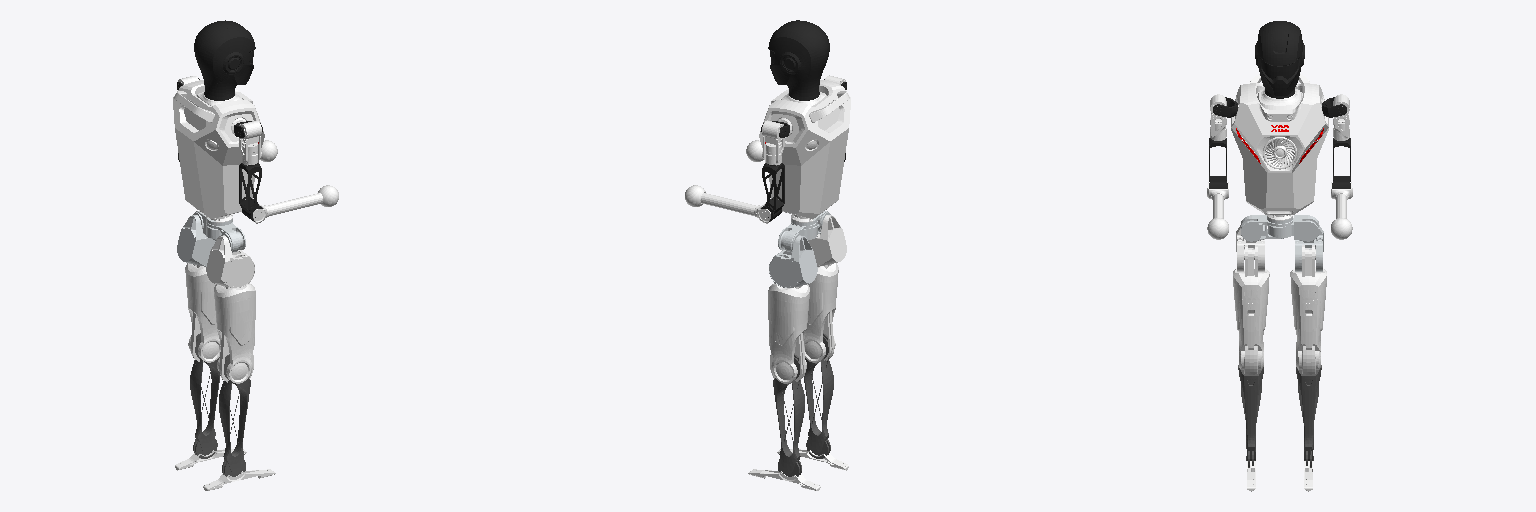
robot.urdf — X02Lite:
<?xml version="1.0" encoding="utf-8"?>
<!-- This URDF was automatically created by SolidWorks to URDF Exporter! Originally created by [author] ([email redacted]) 
     Commit Version: 1.6.0-4-g7f85cfe  Build Version: 1.6.7995.38578
     For more information, please see http://wiki.ros.org/sw_urdf_exporter -->
<robot name="X02Lite">
  <mujoco>
    <compiler meshdir="meshes" discardvisual="false"/>
  </mujoco>
  <!-- [CAUTION] uncomment when convert to mujoco -->
  <link name="world"></link>
  <joint name="pelvis" type="floating">
    <parent link="world"/>
    <child link="pelvis"/>
  </joint>

  <link name="pelvis">
    <inertial>
      <origin xyz="-0.0000717 0.0001443 -0.0195866" rpy="0 0 0" />
      <mass value="0.5786" />
      <inertia ixx="0.0004533504" ixy="-0.0000000581" ixz="-0.0000006777" iyy="0.0004080524" iyz="0.0000027471" izz="0.0005122071" />
    </inertial>
    <visual>
      <origin xyz="0 0 0" rpy="0 0 0" />
      <geometry>
        <mesh filename="meshes/pelvis.STL" />
      </geometry>
      <material name="">
        <color rgba="1 1 1 1" />
      </material>
    </visual>
    <!-- <collision> -->
    <origin xyz="0 0 0" rpy="0 0 0" />
    <geometry>
      <mesh filename="meshes/pelvis.STL" />
    </geometry>
    <!-- </collision> -->
  </link>
  <link name="L_hip_yaw_Link">
    <inertial>
      <origin xyz="0.000942 0.026834 -0.024386" rpy="0 0 0" />
      <mass value="1.758" />
      <inertia ixx="0.004988888" ixy="0.000039059" ixz="-0.000005421" iyy="0.002479734" iyz="-0.001035324" izz="0.003849267" />
    </inertial>
    <visual>
      <origin xyz="0 0 0" rpy="0 0 0" />
      <geometry>
        <mesh filename="meshes/L_hip_yaw_Link.STL" />
      </geometry>
      <material name="">
        <color rgba="0.898039215686275 0.917647058823529 0.929411764705882 1" />
      </material>
    </visual>
    <!-- <collision> -->
    <origin xyz="0 0 0" rpy="0 0 0" />
    <geometry>
      <mesh filename="meshes/L_hip_yaw_Link.STL" />
    </geometry>
    <!-- </collision> -->
  </link>
  <joint name="L_hip_yaw" type="revolute">
    <origin xyz="0 0 -0.06" rpy="0 0 0" />
    <parent link="pelvis" />
    <child link="L_hip_yaw_Link" />
    <axis xyz="0 0 1" />
    <limit lower="-0.7853981633974483" upper="0.7853981633974483" effort="50" velocity="10.471975511965978"/>
  </joint>
  <link name="L_hip_roll_Link">
    <inertial>
      <origin xyz="0.066798 -0.001559 0.021277" rpy="0 0 0" />
      <mass value="1.562" />
      <inertia ixx="0.002995411" ixy="-0.000034162" ixz="0.000102364" iyy="0.004418205" iyz="-0.000037524" izz="0.004164746" />
    </inertial>
    <visual>
      <origin xyz="0 0 0" rpy="0 0 0" />
      <geometry>
        <mesh filename="meshes/L_hip_roll_Link.STL" />
      </geometry>
      <material name="">
        <color rgba="0.898039215686275 0.917647058823529 0.929411764705882 1" />
      </material>
    </visual>
    <!-- <collision> -->
    <origin xyz="0 0 0" rpy="0 0 0" />
    <geometry>
      <mesh filename="meshes/L_hip_roll_Link.STL" />
    </geometry>
    <!-- </collision> -->
  </link>
  <joint name="L_hip_roll" type="revolute">
    <origin xyz="0 0.09 -0.0474" rpy="3.14159265358979 1.5707963267949 0" />
    <parent link="L_hip_yaw_Link" />
    <child link="L_hip_roll_Link" />
    <axis xyz="0 0 -1" />
    <limit lower="-0.2617993877991494" upper="0.7853981633974483" effort="50" velocity="10.471975511965978"/>
  </joint>
  <link name="L_hip_pitch_Link">
    <inertial>
      <origin xyz="0.082779 -0.000893 -0.001942" rpy="0 0 0" />
      <mass value="1.332" />
      <inertia ixx="0.000936533" ixy="-0.000067319" ixz="0.000256852" iyy="0.017165588" iyz="-0.000002308" izz="0.017023851" />
    </inertial>
    <visual>
      <origin xyz="0 0 0" rpy="0 0 0" />
      <geometry>
        <mesh filename="meshes/L_hip_pitch_Link.STL" />
      </geometry>
      <material name="">
        <color rgba="1 1 1 1" />
      </material>
    </visual>
    <!-- <collision> -->
    <origin xyz="0 0 0" rpy="0 0 0" />
    <geometry>
      <mesh filename="meshes/L_hip_pitch_Link.STL" />
    </geometry>
    <!-- </collision> -->
  </link>
  <joint name="L_hip_pitch" type="revolute">
    <origin xyz="0.092 -0.001 -2.97932823952292E-05" rpy="-1.5707963267949 0 0" />
    <parent link="L_hip_roll_Link" />
    <child link="L_hip_pitch_Link" />
    <axis xyz="0 0 1" />
    <limit lower="-0.5235987755982988" upper="2.007128639793479" effort="72" velocity="9.16297857297023"/>
  </joint>
  <link name="L_knee_Link">
    <inertial>
      <origin xyz="0.126574 0.002525 -0.000118" rpy="0 0 0" />
      <mass value="0.847" />
      <inertia ixx="0.003801179" ixy="-0.000219244" ixz="-0.000001892" iyy="0.010664214" iyz="0.000000293" izz="0.010826971" />
    </inertial>
    <visual>
      <origin xyz="0 0 0" rpy="0 0 0" />
      <geometry>
        <mesh filename="meshes/L_knee_Link.STL" />
      </geometry>
      <material name="">
        <color rgba="0.419607843137255 0.419607843137255 0.419607843137255 1" />
      </material>
    </visual>
    <!-- <collision> -->
    <origin xyz="0 0 0" rpy="0 0 0" />
    <geometry>
      <mesh filename="meshes/L_knee_Link.STL" />
    </geometry>
    <!-- </collision> -->
  </link>
  <joint name="L_knee_pitch" type="revolute">
    <origin xyz="0.349999998731943 -2.9793282395241E-05 0" rpy="0 0 0" />
    <parent link="L_hip_pitch_Link" />
    <child link="L_knee_Link" />
    <axis xyz="0 0 1" />
    <limit lower="-2.443460952792061" upper="0.08726646259971647" effort="150" velocity="7.3303828583761845"/>
  </joint>
  <link name="L_ankle_pitch_Link">
    <inertial>
      <origin xyz="0.027322 0.011889 -0.000237" rpy="0 0 0" />
      <mass value="0.256" />
      <inertia ixx="0.000888050" ixy="0.000047483" ixz="0.000001032" iyy="0.000135674" iyz="0.000000750" izz="0.000981346" />
    </inertial>
    <visual>
      <origin xyz="0 0 0" rpy="0 0 0" />
      <geometry>
        <mesh filename="meshes/L_ankle_pitch_Link.STL" />
      </geometry>
      <material name="">
        <color rgba="1 1 1 1" />
      </material>
    </visual>
    <collision>
      <origin xyz="0.041 0.02 0" rpy="1.5707963267948966 0 0" />
      <geometry>
        <!-- <mesh --> filename="meshes/L_ankle_pitch_Link.STL" />
        <cylinder length="0.249" radius="0.018" />
      </geometry>
    </collision>
  </link>
  <joint name="L_ankle_pitch" type="revolute">
    <origin xyz="0.35 0 0" rpy="0 0 0" />
    <parent link="L_knee_Link" />
    <child link="L_ankle_pitch_Link" />
    <axis xyz="0 0 1" />
    <limit lower="-1.3962634015954636" upper="1.0471975511965976" effort="45" velocity="14.660765716752369"/>
  </joint>
  <link name="R_hip_yaw_Link">
    <inertial>
      <origin xyz="0.001115 -0.049187 0.001444" rpy="0 0 0" />
      <mass value="0.907" />
      <inertia ixx="0.002067018" ixy="-0.000035043" ixz="-0.000000909" iyy="0.000567723" iyz="0.000020295" izz="0.002016525" />
    </inertial>
    <visual>
      <origin xyz="0 0 0" rpy="0 0 0" />
      <geometry>
        <mesh filename="meshes/R_hip_yaw_Link.STL" />
      </geometry>
      <material name="">
        <color rgba="0.898039215686275 0.917647058823529 0.929411764705882 1" />
      </material>
    </visual>
    <!-- <collision> -->
    <origin xyz="0 0 0" rpy="0 0 0" />
    <geometry>
      <mesh filename="meshes/R_hip_yaw_Link.STL" />
    </geometry>
    <!-- </collision> -->
  </link>
  <joint name="R_hip_yaw" type="revolute">
    <origin xyz="0 0 -0.1074" rpy="0 0 0" />
    <parent link="pelvis" />
    <child link="R_hip_yaw_Link" />
    <axis xyz="0 0 -1" />
    <limit lower="-0.7853981633974483" upper="0.7853981633974483" effort="50" velocity="10.471975511965978"/>
  </joint>
  <link name="R_hip_roll_Link">
    <inertial>
      <origin xyz="0.066798 -0.001559 -0.021277" rpy="0 0 0" />
      <mass value="1.562" />
      <inertia ixx="0.002995411" ixy="-0.000034162" ixz="-0.000102364" iyy="0.004418205" iyz="0.000037524" izz="0.004164746" />
    </inertial>
    <visual>
      <origin xyz="0 0 0" rpy="0 0 0" />
      <geometry>
        <mesh filename="meshes/R_hip_roll_Link.STL" />
      </geometry>
      <material name="">
        <color rgba="1 1 1 1" />
      </material>
    </visual>
    <!-- <collision> -->
    <origin xyz="0 0 0" rpy="0 0 0" />
    <geometry>
      <mesh filename="meshes/R_hip_roll_Link.STL" />
    </geometry>
    <!-- </collision> -->
  </link>
  <joint name="R_hip_roll" type="revolute">
    <origin xyz="0 -0.09 0" rpy="0 1.5707963267949 0" />
    <parent link="R_hip_yaw_Link" />
    <child link="R_hip_roll_Link" />
    <axis xyz="0 0 -1" />
    <limit lower="-0.2617993877991494" upper="0.7853981633974483" effort="50" velocity="10.471975511965978"/>
  </joint>
  <link name="R_hip_pitch_Link">
    <inertial>
      <origin xyz="0.082779 0.000893 -0.001942" rpy="0 0 0" />
      <mass value="1.332" />
      <inertia ixx="0.000936533" ixy="0.000067319" ixz="-0.000256852" iyy="0.017165588" iyz="0.000002308" izz="0.017023851" />
    </inertial>
    <visual>
      <origin xyz="0 0 0" rpy="0 0 0" />
      <geometry>
        <mesh filename="meshes/R_hip_pitch_Link.STL" />
      </geometry>
      <material name="">
        <color rgba="1 1 1 1" />
      </material>
    </visual>
    <!-- <collision> -->
    <origin xyz="0 0 0" rpy="0 0 0" />
    <geometry>
      <mesh filename="meshes/R_hip_pitch_Link.STL" />
    </geometry>
    <!-- </collision> -->
  </link>
  <joint name="R_hip_pitch" type="revolute">
    <origin xyz="0.092 -0.00100000000000001 2.97932823952229E-05" rpy="-1.5707963267949 0 0" />
    <parent link="R_hip_roll_Link" />
    <child link="R_hip_pitch_Link" />
    <axis xyz="0 0 -1" />
    <limit lower="-0.5235987755982988" upper="2.007128639793479" effort="72" velocity="9.16297857297023"/>
  </joint>
  <link name="R_knee_Link">
    <inertial>
      <origin xyz="0.126574 -0.002525 -0.000118" rpy="0 0 0" />
      <mass value="0.847" />
      <inertia ixx="0.003801179" ixy="0.000219244" ixz="0.000001892" iyy="0.010664214" iyz="-0.000000293" izz="0.010826971" />
    </inertial>
    <visual>
      <origin xyz="0 0 0" rpy="0 0 0" />
      <geometry>
        <mesh filename="meshes/R_knee_Link.STL" />
      </geometry>
      <material name="">
        <color rgba="0.419607843137255 0.419607843137255 0.419607843137255 1" />
      </material>
    </visual>
    <!-- <collision> -->
    <origin xyz="0 0 0" rpy="0 0 0" />
    <geometry>
      <mesh filename="meshes/R_knee_Link.STL" />
    </geometry>
    <!-- </collision> -->
  </link>
  <joint name="R_knee_pitch" type="revolute">
    <origin xyz="0.349999998731943 2.97932823952059E-05 0" rpy="0 0 0" />
    <parent link="R_hip_pitch_Link" />
    <child link="R_knee_Link" />
    <axis xyz="0 0 -1" />
    <limit lower="-2.443460952792061" upper="0.08726646259971647" effort="150" velocity="7.3303828583761845"/>
  </joint>
  <link name="R_ankle_pitch_Link">
    <inertial>
      <origin xyz="0.027322 -0.011889 -0.000237" rpy="0 0 0" />
      <mass value="0.256" />
      <inertia ixx="0.000888050" ixy="-0.000047483" ixz="-0.000001032" iyy="0.000135674" iyz="-0.000000750" izz="0.000981346" />
    </inertial>
    <visual>
      <origin xyz="0 0 0" rpy="0 0 0" />
      <geometry>
        <mesh filename="meshes/R_ankle_pitch_Link.STL" />
      </geometry>
      <material name="">
        <color rgba="1 1 1 1" />
      </material>
    </visual>
    <collision>
      <origin xyz="0.041 -0.02 0" rpy="1.5707963267948966 0 0" />
      <geometry>
        <!-- <mesh --> filename="meshes/R_ankle_pitch_Link.STL" />
        <cylinder length="0.249" radius="0.018"/>
      </geometry>
    </collision>
  </link>
  <joint name="R_ankle_pitch" type="revolute">
    <origin xyz="0.35 0 0" rpy="0 0 0" />
    <parent link="R_knee_Link" />
    <child link="R_ankle_pitch_Link" />
    <axis xyz="0 0 -1" />
    <limit lower="-1.3962634015954636" upper="1.0471975511965976" effort="45" velocity="14.660765716752369"/>
  </joint>
  <link name="torso_Link">
    <inertial>
      <origin xyz="0.0031437 0.0003242 0.1851956" rpy="0 0 0" />
      <mass value="9.2618" />
      <inertia ixx="0.1425570539" ixy="-0.0002470731" ixz="-0.0010896186" iyy="0.1131721333" iyz="0.0002687928" izz="0.0741723374" />
    </inertial>
    <visual>
      <origin xyz="0 0 0" rpy="0 0 0" />
      <geometry>
        <mesh filename="meshes/torso_link.STL" />
      </geometry>
      <material name="">
        <color rgba="1 1 1 1" />
      </material>
    </visual>
    <!-- <collision> -->
    <origin xyz="0 0 0" rpy="0 0 0" />
    <geometry>
      <mesh filename="meshes/torso_link.STL" />
    </geometry>
    <!-- </collision> -->
  </link>
  <joint name="torso" type="fixed">
    <origin xyz="0 0 0" rpy="0 0 0" />
    <parent link="pelvis" />
    <child link="torso_Link" />
    <axis xyz="0 0 1" />
    <limit lower="-0.785" upper="0.785" effort="50" velocity="10.471975511965978"/>
  </joint>
  <link name="L_shoulder_pitch_Link">
    <inertial>
      <origin xyz="0.000994 0.000135 0.015061" rpy="0 0 0" />
      <mass value="0.3" />
      <inertia ixx="0.000621497" ixy="-0.000000128" ixz="0.000008777" iyy="0.000564556" iyz="0.000001116" izz="0.000170804" />
    </inertial>
    <visual>
      <origin xyz="0 0 0" rpy="0 0 0" />
      <geometry>
        <mesh filename="meshes/L_shoulder_pitch_Link.STL" />
      </geometry>
      <material name="">
        <color rgba="0.2 0.2 0.2 0.9" />
      </material>
    </visual>
    <!-- <collision> -->
    <origin xyz="0 0 0" rpy="0 0 0" />
    <geometry>
      <mesh filename="meshes/L_shoulder_pitch_Link.STL" />
    </geometry>
    <!-- </collision> -->
  </link>
  <joint name="L_shoulder_pitch" type="fixed">
    <origin xyz="0 0.136078524596347 0.306812038248655" rpy="0 1.30899693899577 1.5707963267949" />
    <parent link="torso_Link" />
    <child link="L_shoulder_pitch_Link" />
    <axis xyz="0 0 -1" />
    <limit lower="-1.5707963267948966" upper="3.141592653589793" effort="18" velocity="5.235987755982989"/>
  </joint>
  <link name="L_shoulder_roll_Link">
    <inertial>
      <origin xyz="0.043319 -0.000273 0.000056" rpy="0 0 0" />
      <mass value="0.704" />
      <inertia ixx="0.000295478" ixy="-0.000008088" ixz="-0.000005229" iyy="0.001502613" iyz="0.000000085" izz="0.001450385" />
    </inertial>
    <visual>
      <origin xyz="0 0 0" rpy="0 0 0" />
      <geometry>
        <mesh filename="meshes/L_shoulder_roll_Link.STL" />
      </geometry>
      <material name="">
        <color rgba="1 1 1 1" />
      </material>
    </visual>
    <!-- <collision> -->
    <origin xyz="0 0 0" rpy="0 0 0" />
    <geometry>
      <mesh filename="meshes/L_shoulder_roll_Link.STL" />
    </geometry>
    <!-- </collision> -->
  </link>
  <joint name="L_shoulder_roll" type="fixed">
    <origin xyz="0 0 0.0609999999999959" rpy="-1.5707963267949 0.261799387799122 0" />
    <parent link="L_shoulder_pitch_Link" />
    <child link="L_shoulder_roll_Link" />
    <axis xyz="0 0 -1" />
    <limit lower="0.0" upper="3.141592653589793" effort="14" velocity="5.235987755982989"/>
  </joint>
  <link name="L_shoulder_yaw_Link">
    <inertial>
      <origin xyz="0.000230 -0.004330 0.132049" rpy="0 0 0" />
      <mass value="0.523" />
      <inertia ixx="0.002033687" ixy="0.000000601" ixz="0.000003592" iyy="0.002073388" iyz="-0.000141088" izz="0.000293100" />
    </inertial>
    <visual>
      <origin xyz="0 0 0" rpy="0 0 0" />
      <geometry>
        <mesh filename="meshes/L_shoulder_yaw_Link.STL" />
      </geometry>
      <material name="">
        <color rgba="0.2 0.2 0.2 0.9" />
      </material>
    </visual>
    <!-- <collision> -->
    <origin xyz="0 0 0" rpy="0 0 0" />
    <geometry>
      <mesh filename="meshes/L_shoulder_yaw_Link.STL" />
    </geometry>
    <!-- </collision> -->
  </link>
  <joint name="L_shoulder_yaw" type="fixed">
    <origin xyz="0.112 0 0" rpy="1.57079632679458 0 1.5707963267949" />
    <parent link="L_shoulder_roll_Link" />
    <child link="L_shoulder_yaw_Link" />
    <axis xyz="0 0 -1" />
    <limit lower="-2.2689280275926285" upper="2.2689280275926285" effort="14" velocity="5.235987755982989"/>
  </joint>
  <link name="L_elbow_Link">
    <inertial>
      <origin xyz="0.032629 -0.007406 0.000107" rpy="0 0 0" />
      <mass value="0.24" />
      <inertia ixx="0.000142806" ixy="-0.000032013" ixz="-0.000001218" iyy="0.001057248" iyz="0.000000384" izz="0.001019002" />
    </inertial>
    <visual>
      <origin xyz="0 0 0" rpy="0 0 0" />
      <geometry>
        <mesh filename="meshes/L_elbow_Link.STL" />
      </geometry>
      <material name="">
        <color rgba="1 1 1 1" />
      </material>
    </visual>
    <!-- <collision> -->
    <origin xyz="0 0 0" rpy="0 0 0" />
    <geometry>
      <mesh filename="meshes/L_elbow_Link.STL" />
    </geometry>
    <!-- </collision> -->
  </link>
  <joint name="L_elbow" type="fixed">
    <origin xyz="0 -0.0100000000001793 0.172999999999993" rpy="1.5707963267949 3.1416 1.5707963267949" />
    <parent link="L_shoulder_yaw_Link" />
    <child link="L_elbow_Link" />
    <axis xyz="0 0 1" />
    <limit lower="0.0" upper="2.5307274153917776" effort="14" velocity="5.235987755982989"/>
  </joint>
  <link name="R_shoulder_pitch_Link">
    <inertial>
      <origin xyz="0.000994 -0.000135 0.015061" rpy="0 0 0" />
      <mass value="0.3" />
      <inertia ixx="0.000621496" ixy="0.000000130" ixz="0.000008777" iyy="0.000564553" iyz="-0.000001116" izz="0.000170801" />
    </inertial>
    <visual>
      <origin xyz="0 0 0" rpy="0 0 0" />
      <geometry>
        <mesh filename="meshes/R_shoulder_pitch_Link.STL" />
      </geometry>
      <material name="">
        <color rgba=".2 .2 .2 .9" />
      </material>
    </visual>
    <!-- <collision> -->
    <origin xyz="0 0 0" rpy="0 0 0" />
    <geometry>
      <mesh filename="meshes/R_shoulder_pitch_Link.STL" />
    </geometry>
    <!-- </collision> -->
  </link>
  <joint name="R_shoulder_pitch" type="fixed">
    <origin xyz="0 -0.136078524596347 0.306812038248655" rpy="0 1.30899693899578 -1.5707963267949" />
    <parent link="torso_Link" />
    <child link="R_shoulder_pitch_Link" />
    <axis xyz="0 0 1" />
    <limit lower="-1.5707963267948966" upper="3.141592653589793" effort="18" velocity="5.235987755982989"/>
  </joint>
  <link name="R_shoulder_roll_Link">
    <inertial>
      <origin xyz="0.043319 -0.000273 0.000056" rpy="0 0 0" />
      <mass value="0.704" />
      <inertia ixx="0.000295478" ixy="-0.000008088" ixz="0.000005229" iyy="0.001502613" iyz="0.000000085" izz="0.001450385" />
    </inertial>
    <visual>
      <origin xyz="0 0 0" rpy="0 0 0" />
      <geometry>
        <mesh filename="meshes/R_shoulder_roll_Link.STL" />
      </geometry>
      <material name="">
        <color rgba="1 1 1 1" />
      </material>
    </visual>
    <!-- <collision> -->
    <origin xyz="0 0 0" rpy="0 0 0" />
    <geometry>
      <mesh filename="meshes/R_shoulder_roll_Link.STL" />
    </geometry>
    <!-- </collision> -->
  </link>
  <joint name="R_shoulder_roll" type="fixed">
    <origin xyz="0 0 0.060999999999996" rpy="-1.5707963267949 0.261799387799122 0" />
    <parent link="R_shoulder_pitch_Link" />
    <child link="R_shoulder_roll_Link" />
    <axis xyz="0 0 -1" />
    <limit lower="-0.0" upper="3.141592653589793" effort="14" velocity="5.235987755982989"/>
  </joint>
  <link name="R_shoulder_yaw_Link">
    <inertial>
      <origin xyz="0.000230 0.004330 0.132049" rpy="0 0 0" />
      <mass value="0.523" />
      <inertia ixx="0.002033687" ixy="0.000000601" ixz="0.000003592" iyy="0.002073388" iyz="0.000141088" izz="0.000293100" />
    </inertial>
    <visual>
      <origin xyz="0 0 0" rpy="0 0 0" />
      <geometry>
        <mesh filename="meshes/R_shoulder_yaw_Link.STL" />
      </geometry>
      <material name="">
        <color rgba=".2 .2 .2 .9" />
      </material>
    </visual>
    <!-- <collision> -->
    <origin xyz="0 0 0" rpy="0 0 0" />
    <geometry>
      <mesh filename="meshes/R_shoulder_yaw_Link.STL" />
    </geometry>
    <!-- </collision> -->
  </link>
  <joint name="R_shoulder_yaw" type="fixed">
    <origin xyz="0.112 0 0" rpy="1.57079632679458 0 1.5707963267949" />
    <parent link="R_shoulder_roll_Link" />
    <child link="R_shoulder_yaw_Link" />
    <axis xyz="0 0 1" />
    <limit lower="-2.2689280275926285" upper="2.2689280275926285" effort="14" velocity="5.235987755982989"/>
  </joint>
  <link name="R_elbow_Link">
    <inertial>
      <origin xyz="0.032625 0.007408 0.000111" rpy="0 0 0" />
      <mass value="0.24" />
      <inertia ixx="0.000142806" ixy="0.000032013" ixz="-0.000001218" iyy="0.001057248" iyz="-0.000000384" izz="0.001019002" />
    </inertial>
    <visual>
      <origin xyz="0 0 0" rpy="0 0 0" />
      <geometry>
        <mesh filename="meshes/R_elbow_Link.STL" />
      </geometry>
      <material name="">
        <color rgba="1 1 1 1" />
      </material>
    </visual>
    <!-- <collision> -->
    <origin xyz="0 0 0" rpy="0 0 0" />
    <geometry>
      <mesh filename="meshes/R_elbow_Link.STL" />
    </geometry>
    <!-- </collision> -->
  </link>
  <joint name="R_elbow" type="fixed">
    <origin xyz="0 0.00999999999896754 0.173000000000008" rpy="1.5707963267949 0 1.5707963267949" />
    <parent link="R_shoulder_yaw_Link" />
    <child link="R_elbow_Link" />
    <axis xyz="0 0 -1" />
    <limit lower="0" upper="1.5707963267949" effort="14" velocity="5.235987755982989" />
  </joint>
  <link name="Head_Link">
    <inertial>
      <origin xyz="0.00948 0.001773 0.143409" rpy="0 0 0" />
      <mass value="1.177" />
      <inertia ixx="0.0071485868" ixy="-0.0000209215" ixz="-0.0000418265" iyy="0.0075081514" iyz="0.0000437403" izz="0.0052224569" />
    </inertial>
    <visual>
      <origin xyz="0 0 0" rpy="0 0 0" />
      <geometry>
        <mesh filename="meshes/Head_Link.STL" />
      </geometry>
      <material name="">
        <color rgba=".2 .2 .2 .9" />
      </material>
    </visual>
    <!-- <collision> -->
    <origin xyz="0 0 0" rpy="0 0 0" />
    <geometry>
      <mesh filename="meshes/Head_Link.STL" />
    </geometry>
    <!-- </collision> -->
  </link>
  <joint name="Head" type="fixed">
    <origin xyz="0 0 0.355" rpy="0 0 0" />
    <parent link="torso_Link" />
    <child link="Head_Link" />
    <axis xyz="0 0 0" />
  </joint>
  <link name="imu_link">
  </link>
  <joint name="imu_joint" type="fixed">
    <origin xyz="0 0 0.1625" rpy="0 0 0" />
    <parent link="torso_Link" />
    <child link="imu_link" />
  </joint>
  <link name="Logo_Link">
    <inertial>
      <origin xyz="0.082950590842835 0.000315079549949364 0.225243833498369" rpy="0 0 0" />
      <mass value="0.00512067879791543" />
      <inertia ixx="1.30394213485836E-06" ixy="-3.51341664144333E-11" ixz="4.09535398301672E-07" iyy="1.05676153928918E-06" iyz="5.51444099121383E-10" izz="9.50917700863864E-07" />
    </inertial>
    <visual>
      <origin xyz="0 0 0" rpy="0 0 0" />
      <geometry>
        <mesh filename="meshes/Logo_Link.STL" />
      </geometry>
      <material name="">
        <color rgba="1 0 0 .8" />
      </material>
    </visual>
    <!-- <collision> -->
    <origin xyz="0 0 0" rpy="0 0 0" />
    <geometry>
      <mesh filename="meshes/Logo_Link.STL" />
    </geometry>
    <!-- </collision> -->
  </link>
  <joint name="Logo" type="fixed">
    <origin xyz="0 0 0" rpy="0 0 0" />
    <parent link="torso_Link" />
    <child link="Logo_Link" />
    <axis xyz="0 0 0" />
  </joint>
</robot>

--- What the picture shows (computed from the rendered views, not written in the file) ---
Views: 3 orthographic renders of the robot side by side, from view 1: azimuth 30°, elevation 25°; view 2: azimuth 150°, elevation 25°; view 3: azimuth 270°, elevation 25°.
Model X02Lite with 24 links and 23 joints (10 revolute, 12 fixed, 1 floating), rooted at world, posed every joint at zero.
Links seen in each view (by area): view 1: torso_Link, Head_Link, R_hip_pitch_Link, L_hip_pitch_Link, R_knee_Link, L_knee_Link, R_hip_roll_Link, L_hip_roll_Link, R_elbow_Link, R_shoulder_roll_Link, R_shoulder_yaw_Link, R_ankle_pitch_Link; view 2: torso_Link, Head_Link, L_hip_pitch_Link, R_hip_pitch_Link, L_knee_Link, R_knee_Link, L_hip_roll_Link, R_hip_roll_Link, L_elbow_Link, L_shoulder_roll_Link, L_shoulder_yaw_Link, L_hip_yaw_Link (+1 smaller); view 3: torso_Link, L_hip_pitch_Link, R_hip_pitch_Link, Head_Link, L_knee_Link, R_knee_Link, L_hip_yaw_Link, L_elbow_Link, R_elbow_Link, R_hip_yaw_Link, R_hip_roll_Link, L_hip_roll_Link (+2 smaller).
Link boxes in pixels (bbox=[...]): torso_Link: bbox=[173, 80, 264, 218]; Head_Link: bbox=[194, 20, 255, 100]; R_hip_pitch_Link: bbox=[214, 283, 255, 383]; L_hip_pitch_Link: bbox=[185, 263, 220, 362]; R_knee_Link: bbox=[219, 354, 250, 476]; L_knee_Link: bbox=[190, 333, 220, 458]; R_hip_roll_Link: bbox=[206, 235, 254, 287]; L_hip_roll_Link: bbox=[177, 215, 215, 266]; R_elbow_Link: bbox=[253, 185, 338, 223]; R_shoulder_roll_Link: bbox=[239, 120, 261, 165]; R_shoulder_yaw_Link: bbox=[239, 163, 262, 221]; R_ankle_pitch_Link: bbox=[203, 469, 275, 490]; torso_Link: bbox=[759, 80, 850, 218]; Head_Link: bbox=[768, 20, 829, 100]; L_hip_pitch_Link: bbox=[768, 283, 809, 383]; R_hip_pitch_Link: bbox=[804, 263, 838, 362]; L_knee_Link: bbox=[773, 354, 804, 476]; R_knee_Link: bbox=[804, 333, 833, 458]; L_hip_roll_Link: bbox=[769, 235, 817, 287]; R_hip_roll_Link: bbox=[808, 215, 846, 266]; L_elbow_Link: bbox=[685, 185, 770, 223]; L_shoulder_roll_Link: bbox=[762, 120, 784, 165]; L_shoulder_yaw_Link: bbox=[761, 163, 784, 221]; L_hip_yaw_Link: bbox=[778, 216, 817, 252]; torso_Link: bbox=[1231, 74, 1328, 214]; L_hip_pitch_Link: bbox=[1290, 245, 1326, 374]; R_hip_pitch_Link: bbox=[1233, 245, 1269, 374]; Head_Link: bbox=[1255, 21, 1304, 98]; L_knee_Link: bbox=[1296, 365, 1321, 467]; R_knee_Link: bbox=[1238, 365, 1263, 467]; L_hip_yaw_Link: bbox=[1267, 215, 1318, 241]; L_elbow_Link: bbox=[1331, 182, 1352, 239]; R_elbow_Link: bbox=[1207, 182, 1228, 239]; R_hip_yaw_Link: bbox=[1241, 215, 1292, 241]; R_hip_roll_Link: bbox=[1236, 225, 1264, 271]; L_hip_roll_Link: bbox=[1295, 225, 1323, 271].
Size in the robot's own frame: 0.45 by 0.46 by 1.57 metres.
22 mesh visuals loaded from 22 distinct referenced files (22 binary STL).